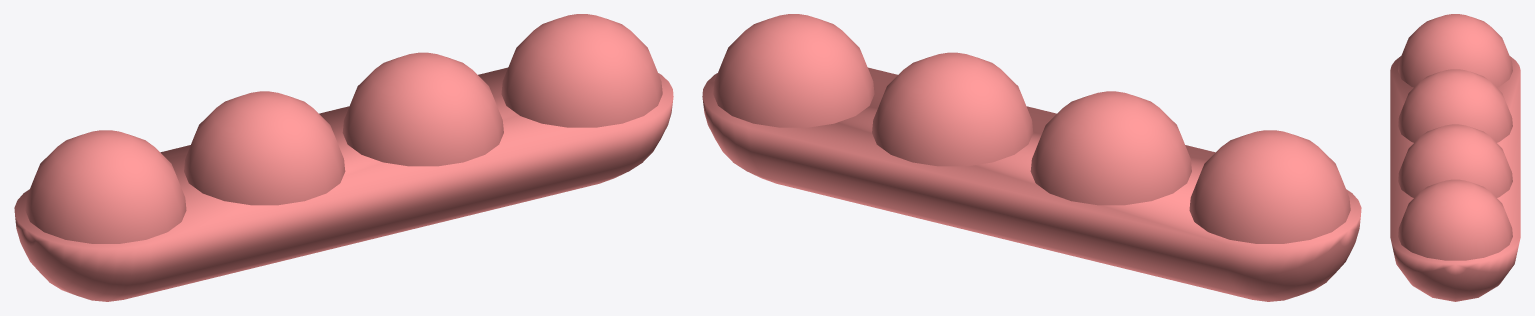
The model's file is Light_DengPian5_1X1_off.FBX.
The picture shows the model from 3 angles, left to right: view 1: azimuth 30°, elevation 25°; view 2: azimuth 150°, elevation 25°; view 3: azimuth 270°, elevation 25°; orthographic projection. The views are drawn at different scales.
Parts seen in each view (by area): view 1: Box001; view 2: Box001; view 3: Box001.
Boxes of the visible parts, box(x1,y1,x2,y2) form: Box001: box(14, 14, 673, 301); Box001: box(702, 14, 1361, 301); Box001: box(1390, 14, 1520, 301).
Size of the model in its own units: 2 by 0.47 by 0.5.
